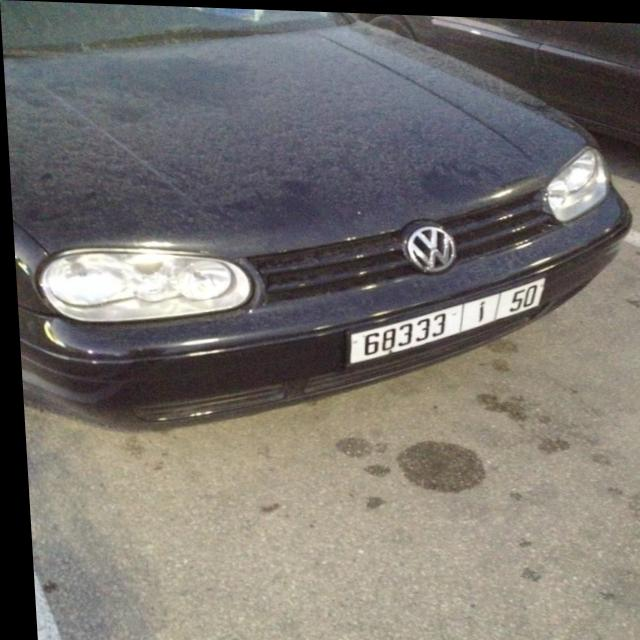License-Plate: (346, 275, 542, 360)
